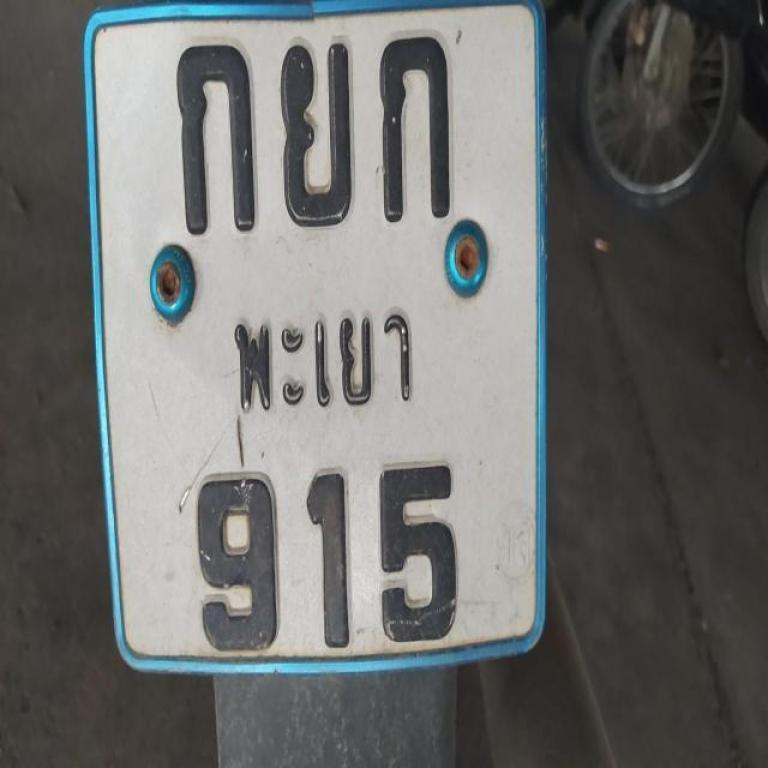license plate: (79, 0, 555, 674)
